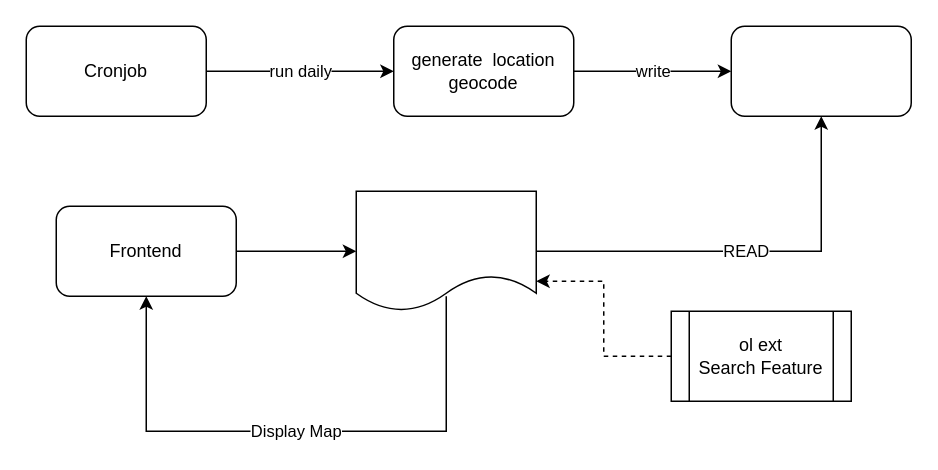
The diagram is 938 pixels wide and 470 high, and some of its shapes have lost their labels. The centre of each missing label's shape, as x and y in pixels:
locations.geocode: (820,70)
Open Layer: (445,250)
